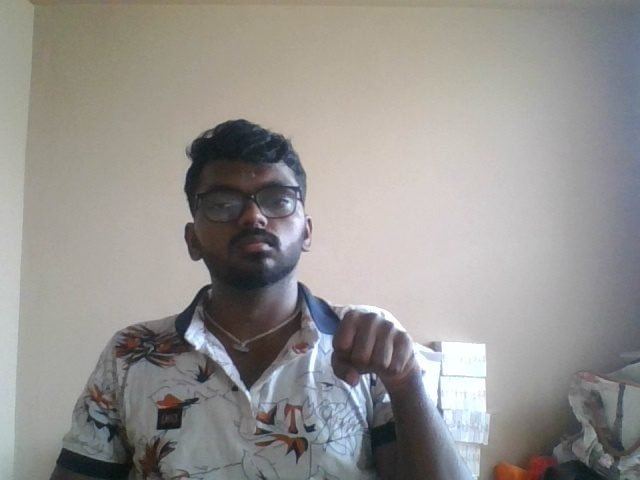Yes: (314, 282, 431, 425)
